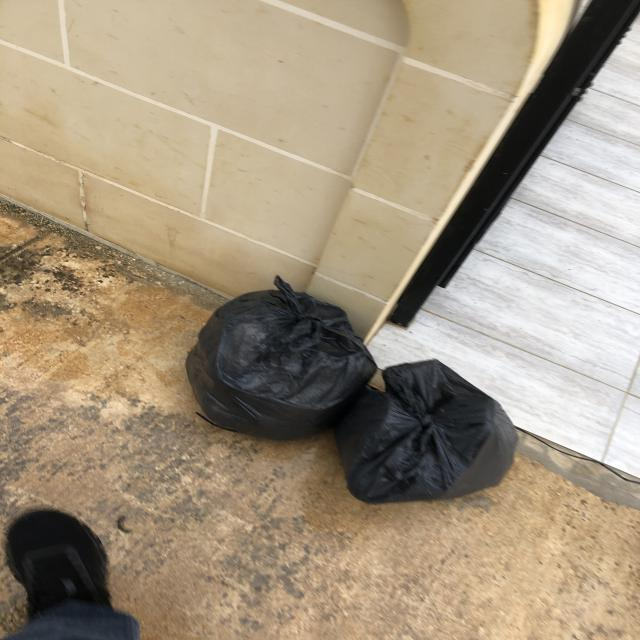Mixed Waste -Black Bag-: (188, 292, 378, 441), (339, 360, 519, 505)
